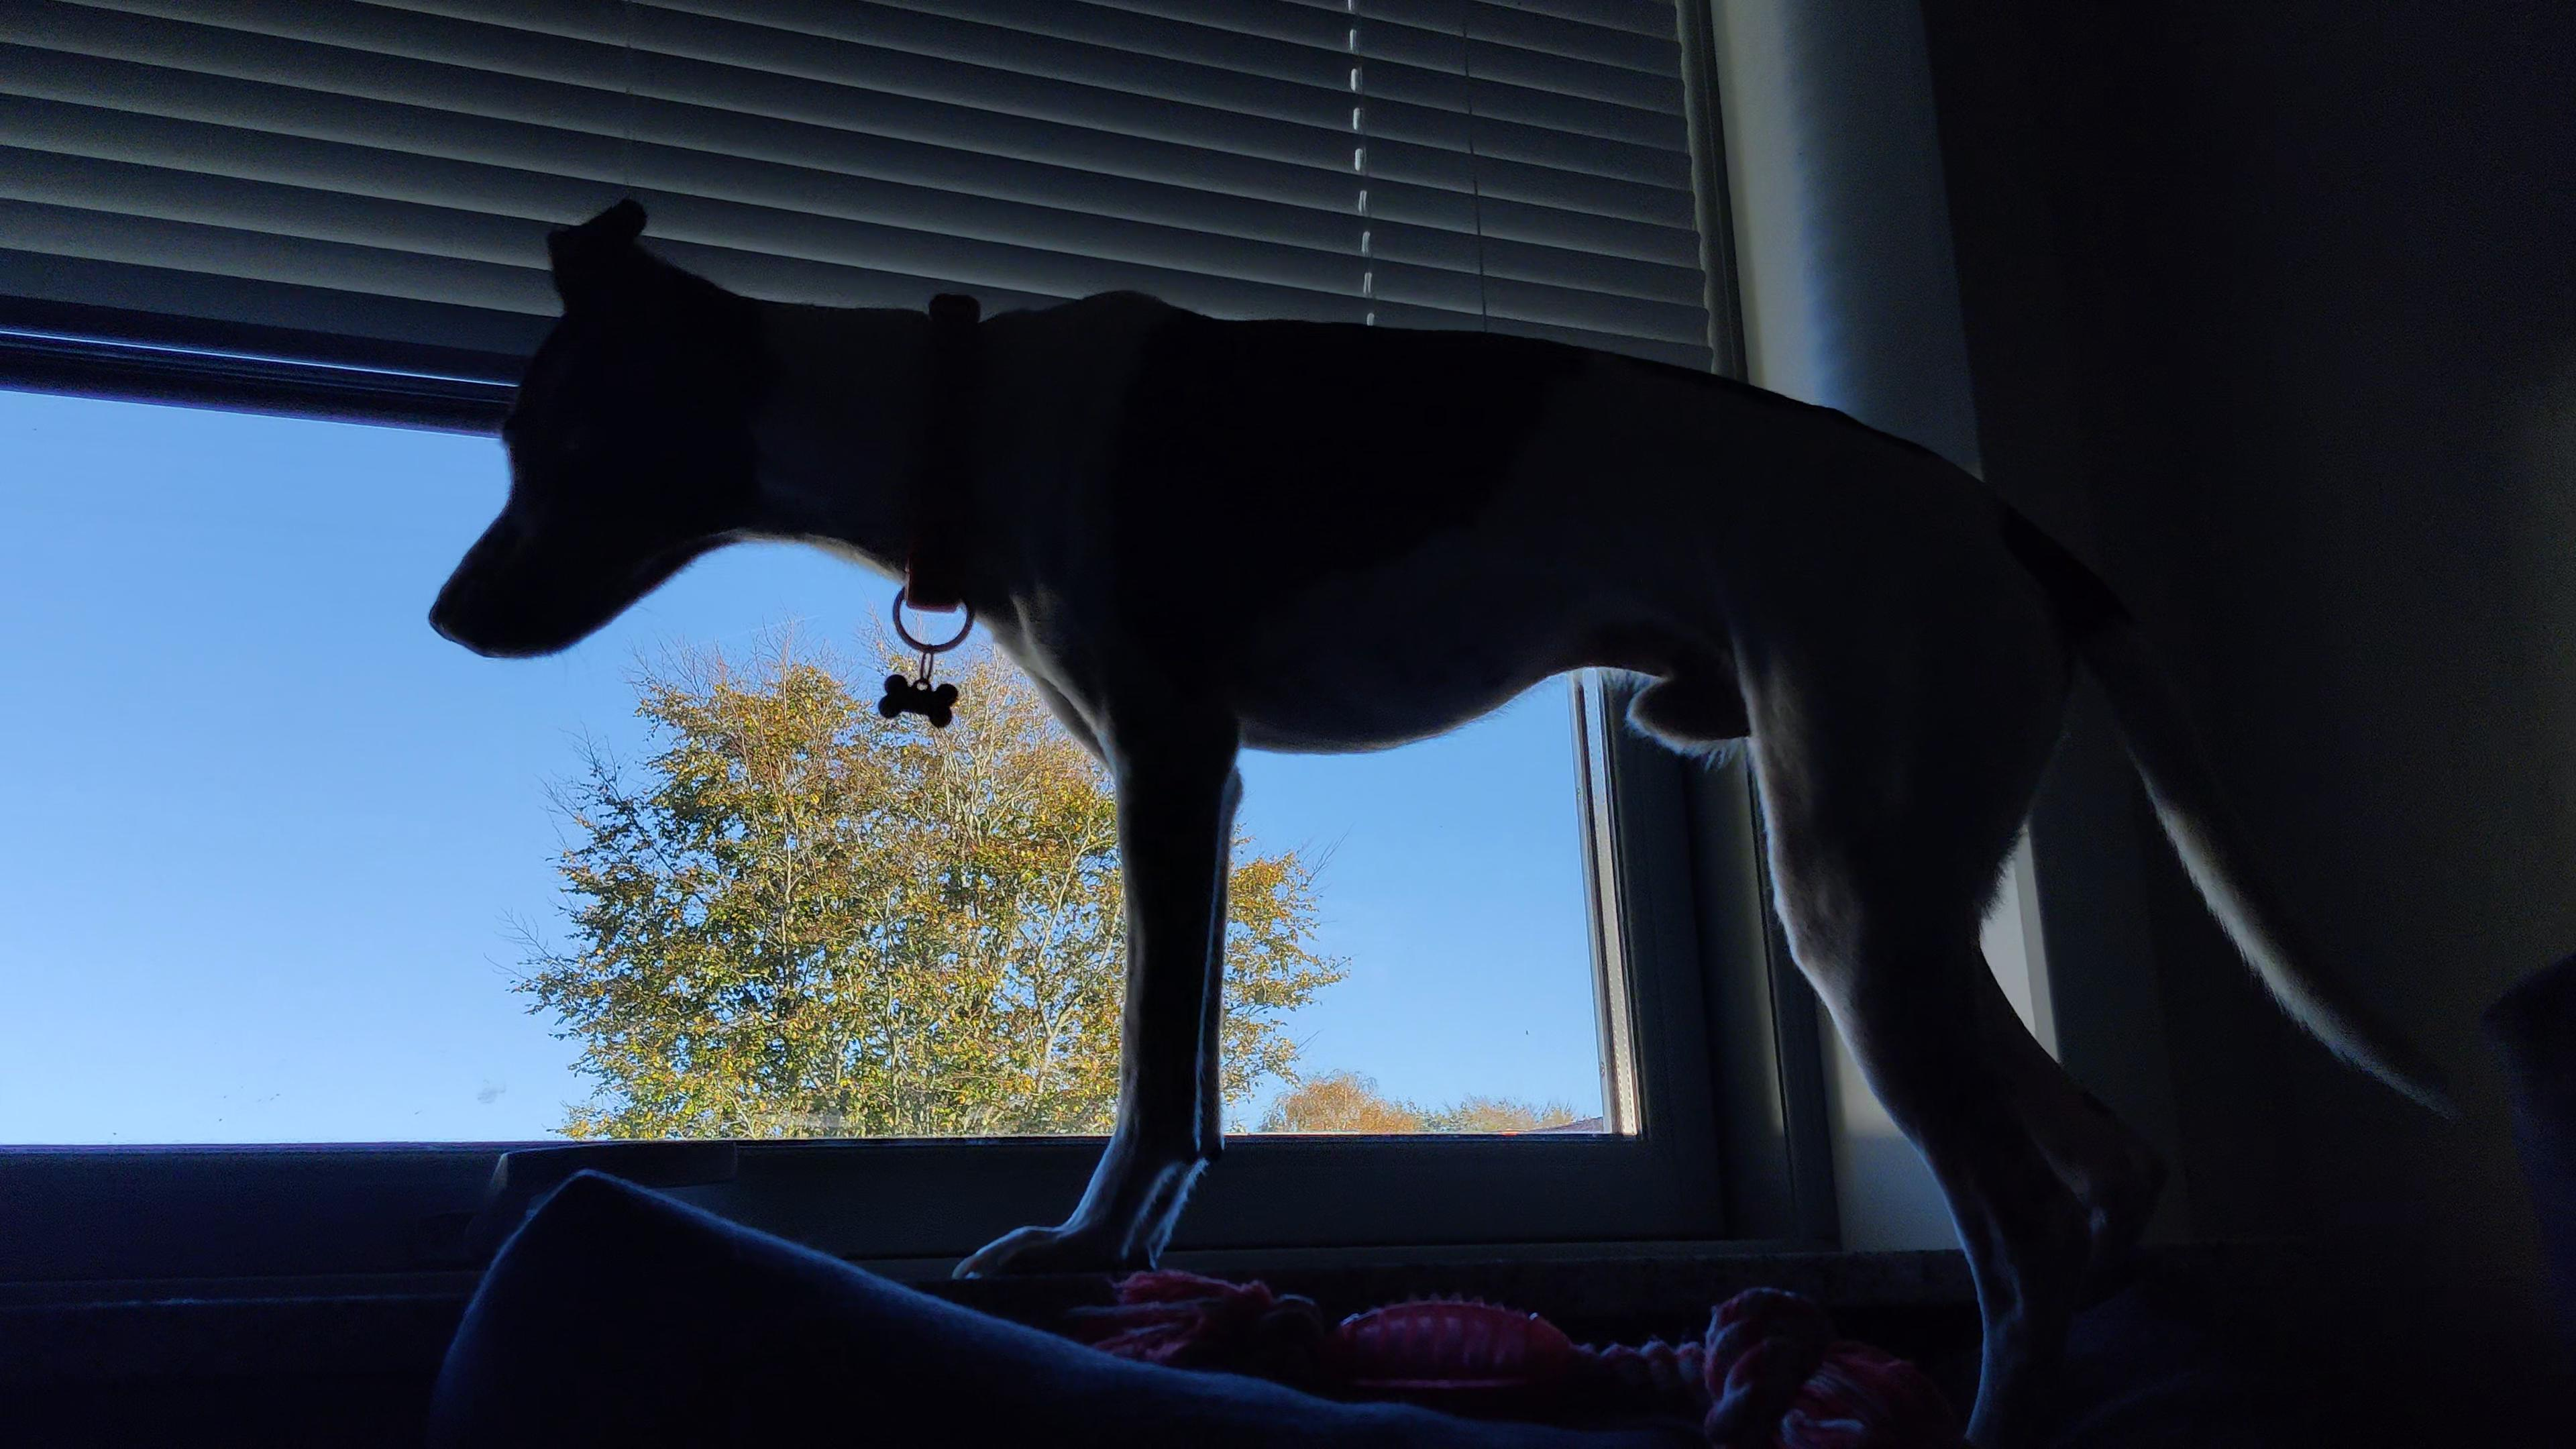Dog: (419, 189, 2465, 1449)
